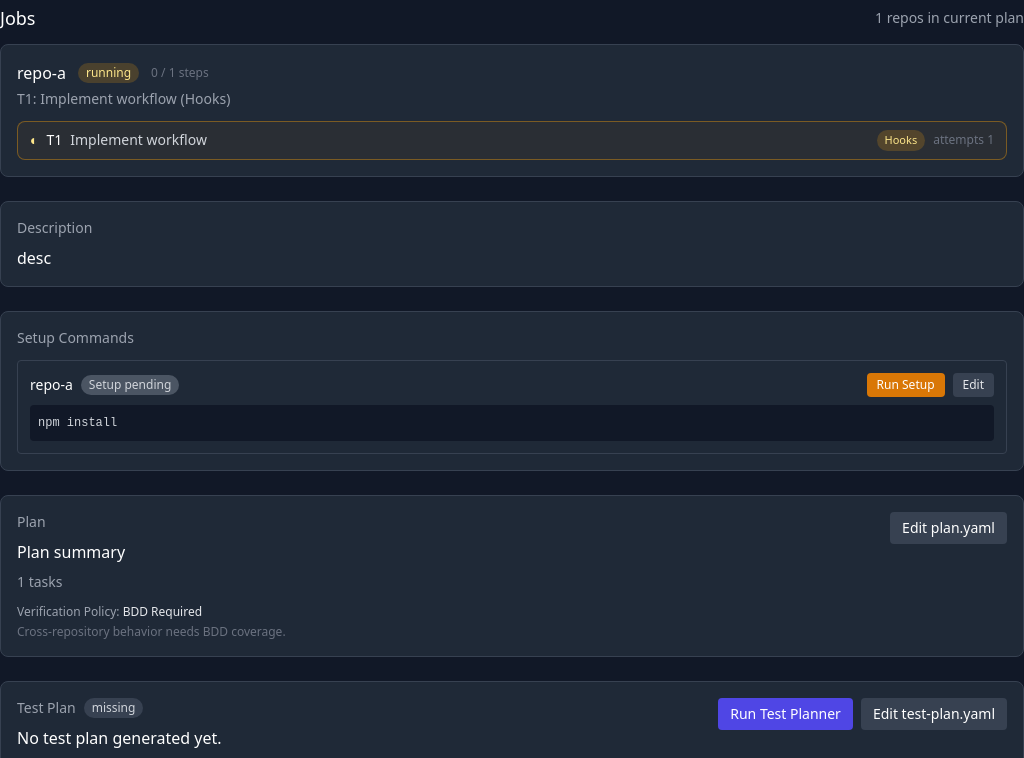
Test: ItemDetailPage workflow UI › displays error message when updateRepoSetup fails
This screenshot has width=1024, height=758.
(page scrolled)
Click the button "Edit": (973, 384) [952,372,994,396]
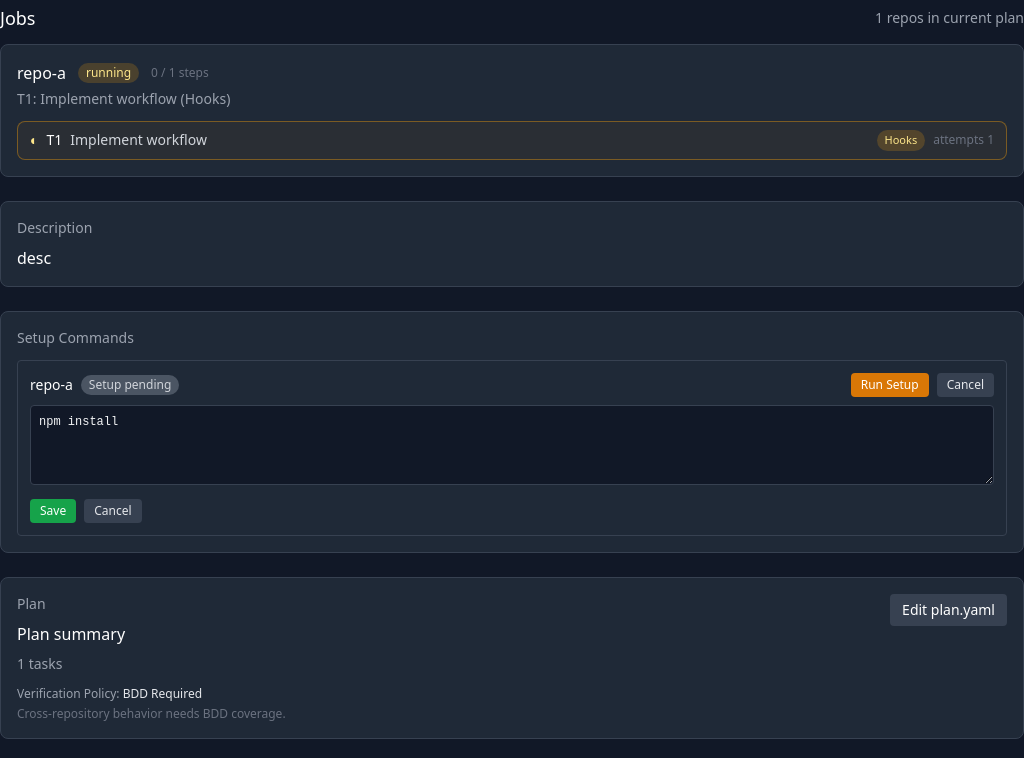
Click the button "Save": (53, 510) [30,498,76,522]
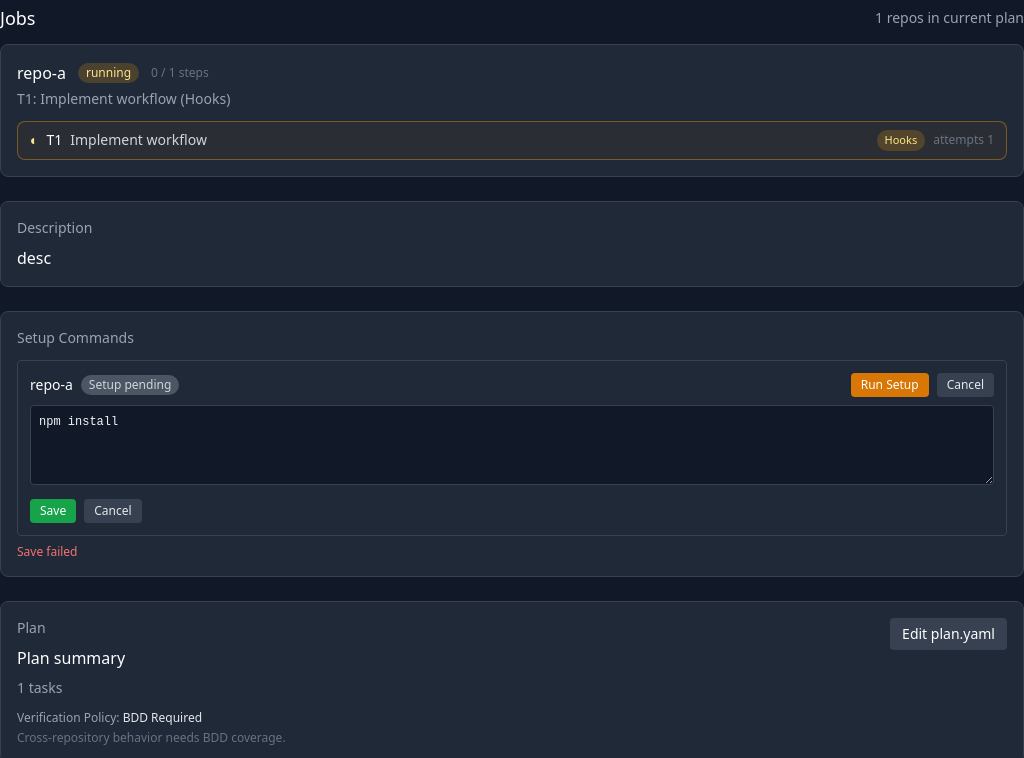
expect the text "Save failed" is shown: met, box [17,542,78,560]
